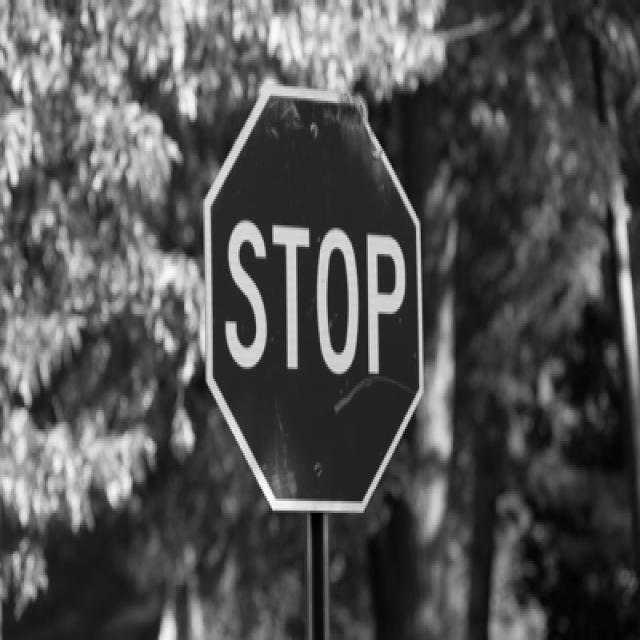Stop-signs: (205, 92, 423, 514)
